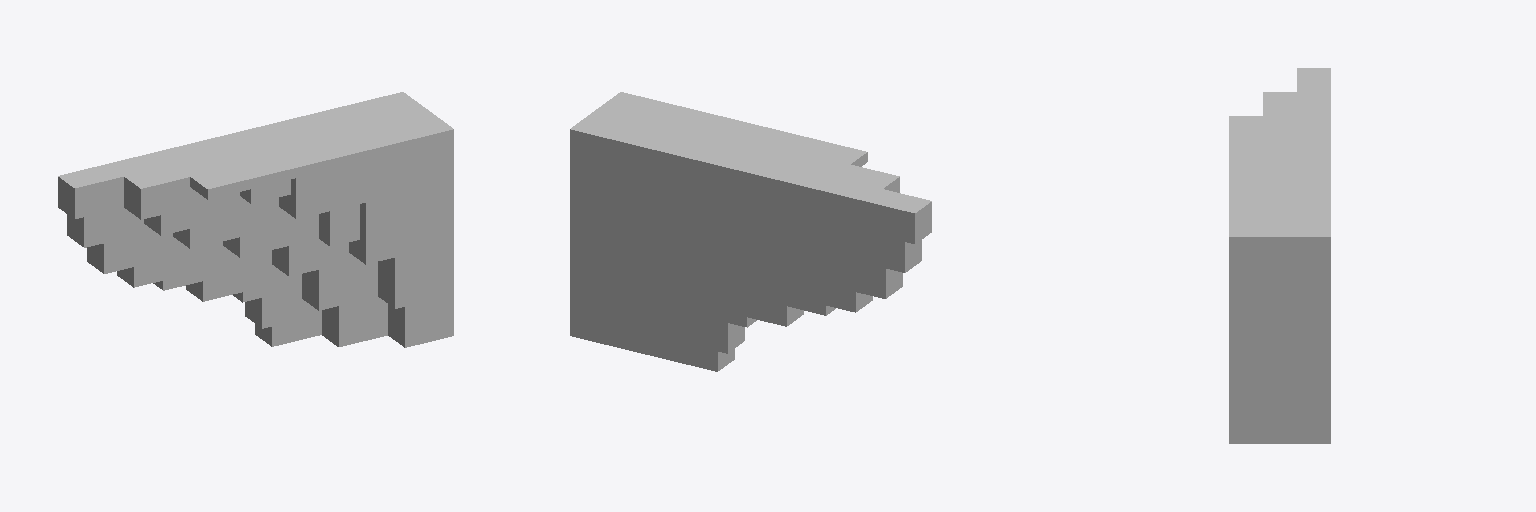
File: joiner 1x2.obj
3 renders of one model, left to right at view 1: azimuth 30°, elevation 25°; view 2: azimuth 150°, elevation 25°; view 3: azimuth 270°, elevation 25°, orthographic.
Size of the model in its own units: 35 by 20 by 9.